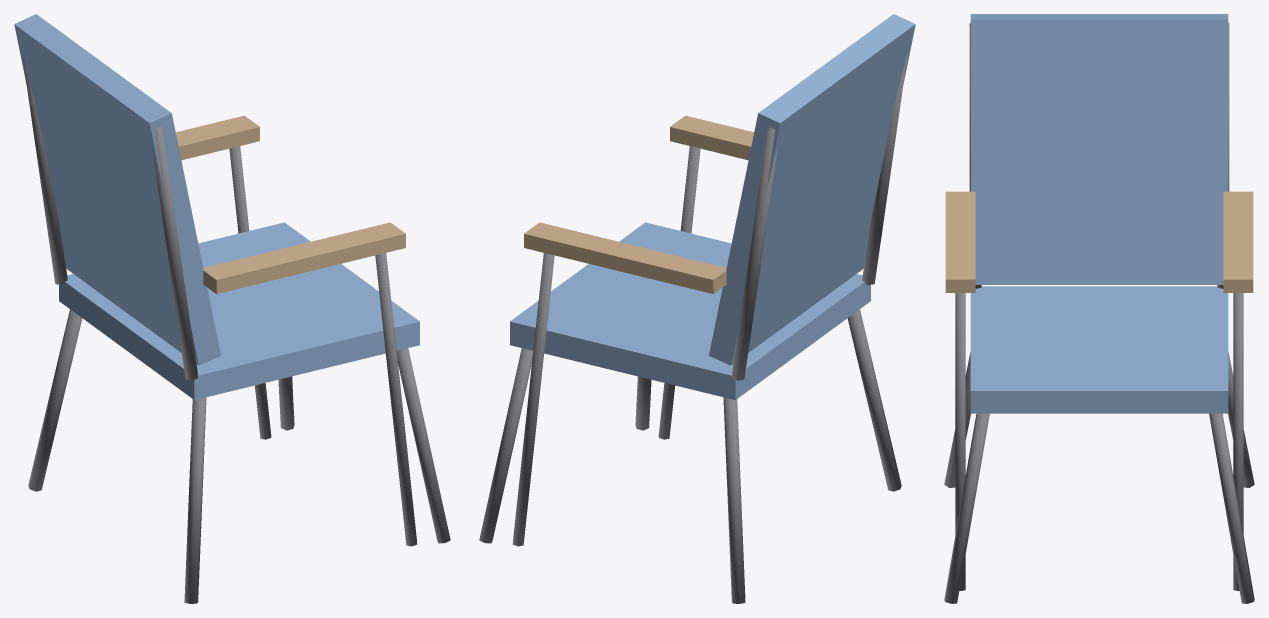
File: camp_chair_blue.glb
The picture shows the model from 3 angles, left to right: view 1: azimuth 30°, elevation 25°; view 2: azimuth 150°, elevation 25°; view 3: azimuth 270°, elevation 25°; orthographic projection. The views are drawn at different scales.
Visible parts, largest first — view 1: camp_chair_blue; view 2: camp_chair_blue; view 3: camp_chair_blue.
Part boxes in pixels (x1,y1,x2,y2): camp_chair_blue: [14, 14, 450, 603]; camp_chair_blue: [479, 14, 915, 603]; camp_chair_blue: [944, 14, 1254, 603].
Bounding box in the file's own units: 0.6428 × 1.03 × 0.6262.
